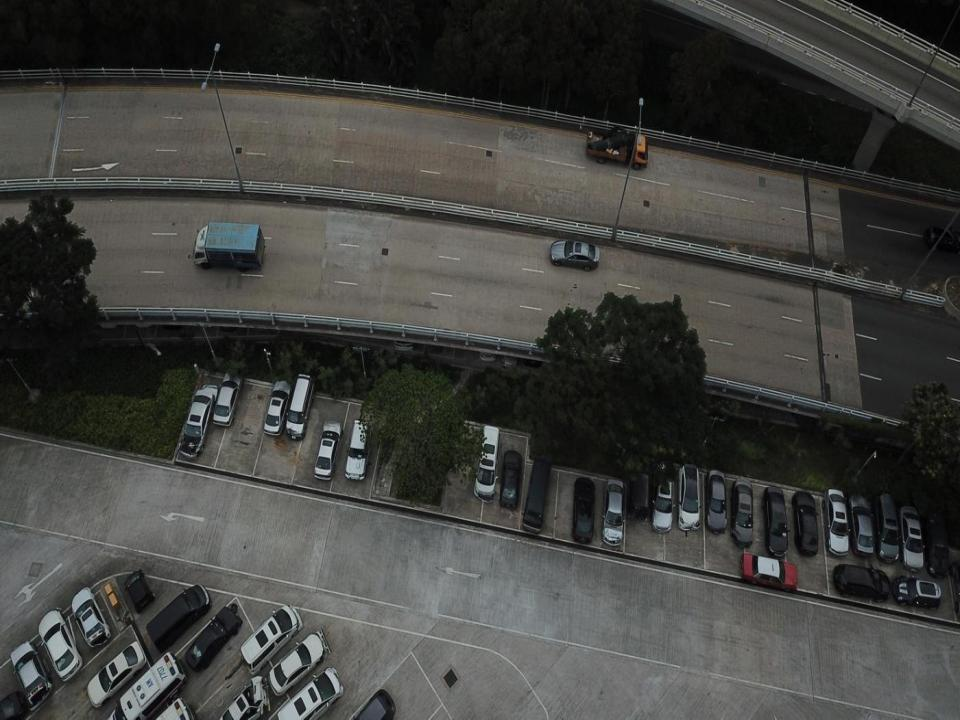car: (106, 652, 188, 719), (146, 582, 213, 653), (239, 604, 303, 678), (87, 641, 147, 709), (184, 605, 243, 673), (277, 667, 346, 719), (268, 632, 322, 698), (38, 606, 82, 682), (177, 383, 218, 457), (10, 640, 50, 710), (832, 562, 892, 604), (738, 551, 797, 593), (70, 586, 110, 647), (214, 677, 270, 719), (791, 489, 823, 556), (474, 422, 500, 502), (760, 484, 788, 558), (822, 487, 852, 556), (651, 453, 675, 533), (873, 492, 899, 564), (599, 477, 626, 546), (702, 466, 729, 535), (342, 418, 371, 482), (731, 474, 756, 548), (676, 462, 702, 532), (893, 573, 942, 609), (548, 239, 601, 272), (213, 367, 242, 427), (847, 489, 873, 555), (263, 374, 290, 436), (572, 474, 595, 546), (929, 506, 951, 580), (312, 419, 338, 481), (902, 505, 926, 572), (122, 567, 156, 612), (351, 689, 398, 719), (499, 446, 520, 504), (926, 221, 956, 255), (154, 698, 194, 719)
truck: (186, 221, 265, 272), (583, 125, 650, 172)
van: (524, 456, 552, 533), (285, 372, 313, 441)
